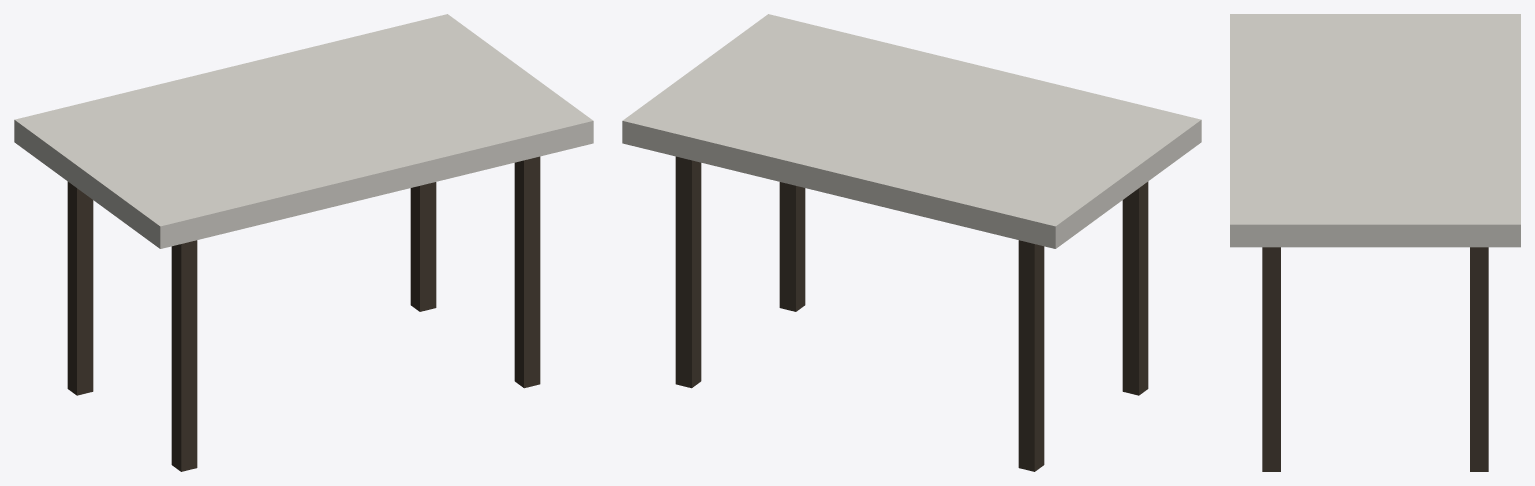
File: table_lightmap.dae
3 views of the same model, side by side, from view 1: azimuth 30°, elevation 25°; view 2: azimuth 150°, elevation 25°; view 3: azimuth 270°, elevation 25° (orthographic).
Parts seen in each view (by area): view 1: top, leg_rr, leg_fr, leg_rl, leg_fl; view 2: top, leg_rl, leg_fl, leg_rr, leg_fr; view 3: top, leg_fl, leg_fr.
Boxes of the visible parts, box(x1,y1,x2,y2) form: top: box(14, 14, 593, 248); leg_rr: box(171, 240, 197, 471); leg_fr: box(514, 156, 540, 388); leg_rl: box(67, 181, 93, 395); leg_fl: box(410, 182, 436, 311); top: box(622, 14, 1201, 248); leg_rl: box(1018, 240, 1044, 471); leg_fl: box(675, 156, 701, 388); leg_rr: box(1122, 181, 1148, 395); leg_fr: box(779, 182, 805, 311); top: box(1230, 14, 1520, 247); leg_fl: box(1470, 247, 1488, 471); leg_fr: box(1262, 247, 1280, 471).
Size of the model in its own units: 4.8 by 2.8 by 2.82.
